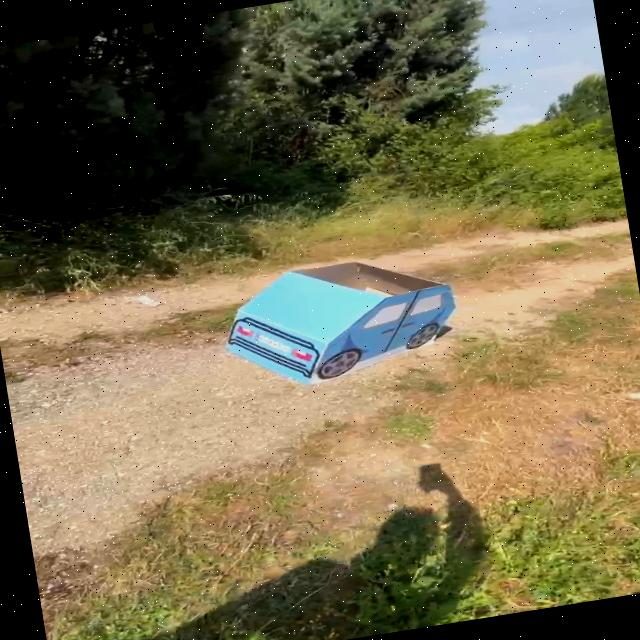blue_car: (193, 232, 481, 401)
